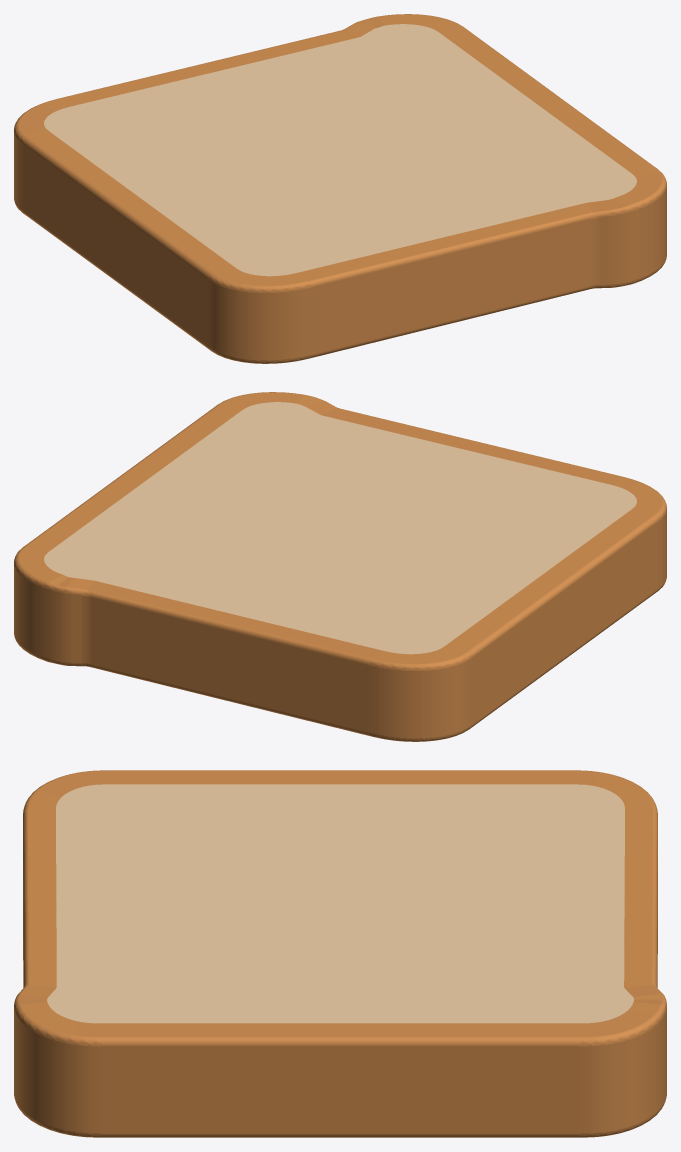
Rendered from トースト.fbx.
3 views of the same model, one above another, from view 1: azimuth 30°, elevation 25°; view 2: azimuth 150°, elevation 25°; view 3: azimuth 270°, elevation 25° (orthographic). The views are drawn at different scales.
Parts seen in each view (by area): view 1: Cube.003; view 2: Cube.003; view 3: Cube.003.
Part boxes in pixels (bbox=[...]): Cube.003: bbox=[14, 14, 666, 363]; Cube.003: bbox=[14, 392, 666, 741]; Cube.003: bbox=[14, 770, 666, 1137].
Size of the model in its own units: 407 by 69.6 by 411.
2 materials, 2 textured.
